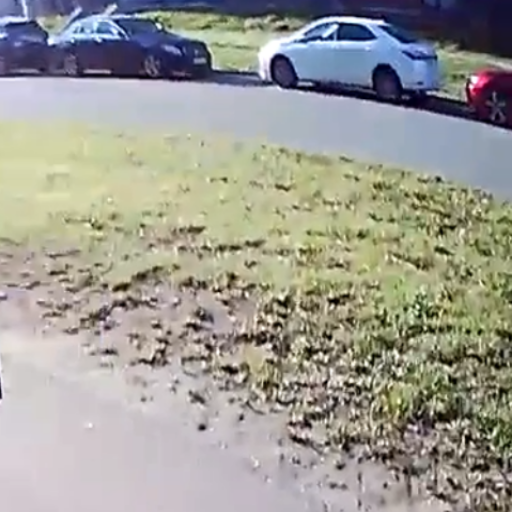Car: (256, 12, 442, 97), (40, 10, 213, 82), (1, 14, 51, 75)
